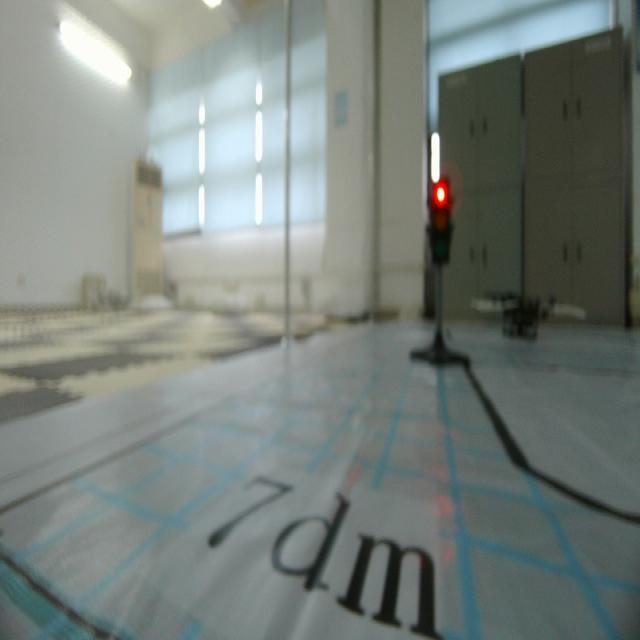red: (428, 180, 454, 268)
